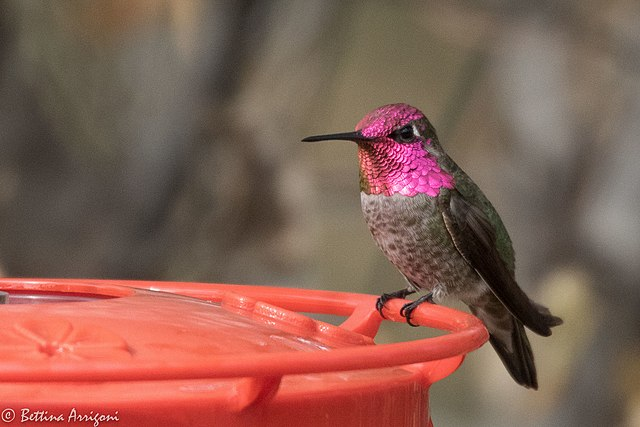calypte anna: (297, 104, 561, 391)
